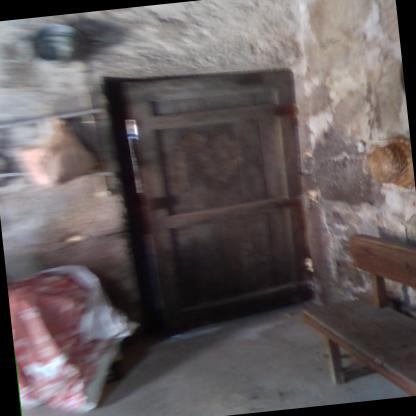closed: (87, 34, 342, 342)
